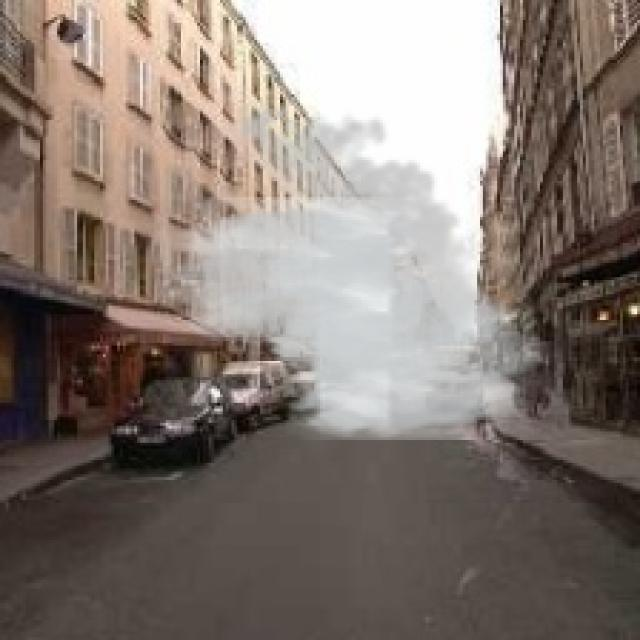Smoke: (146, 94, 563, 440)
